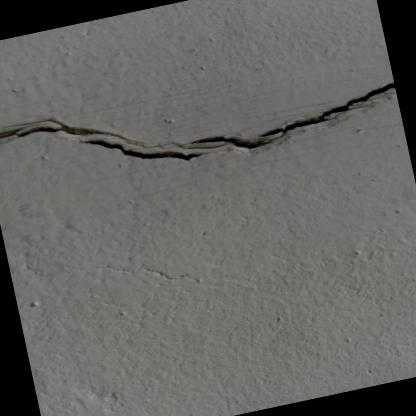crack: (179, 81, 395, 150), (0, 117, 132, 144), (78, 138, 199, 163)
